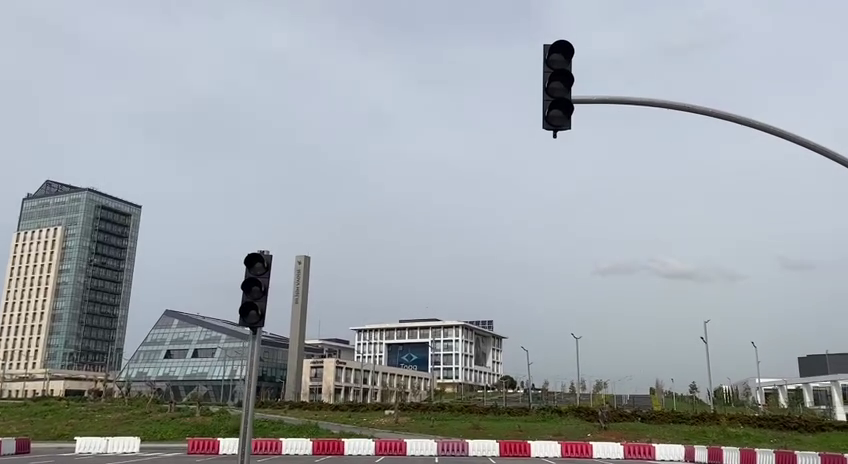trafficLight: (537, 35, 578, 140), (235, 247, 277, 335)
